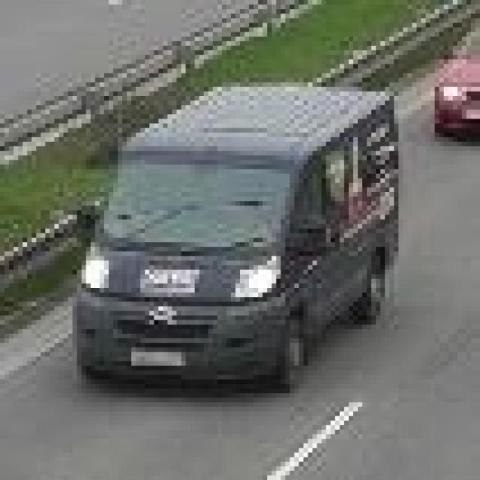van: (75, 82, 401, 389)
